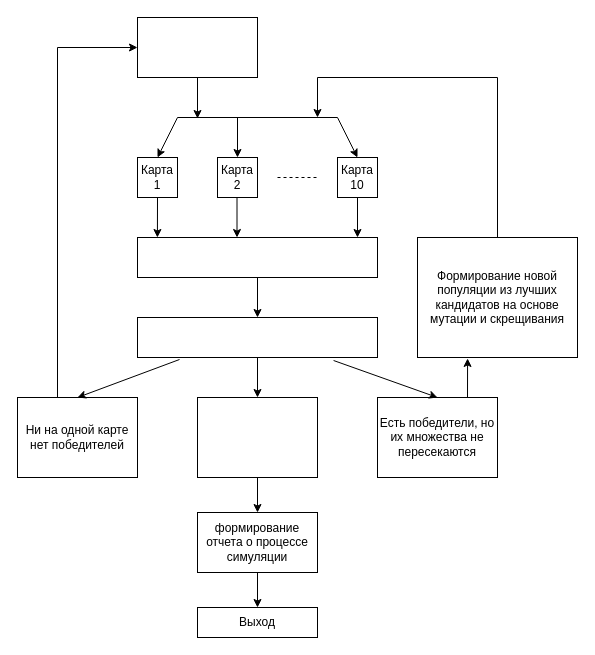
Some shapes in this 595 by 655 pixel diagram are drawn without their labels. Each missing label, with the box of its shape:
Есть объекты популяции, прошедшие все уровни: (196, 396, 318, 478)
Обработка результатов: (136, 316, 378, 358)
Формирование случайной популяции: (136, 16, 258, 78)
Формирование списка победителей: (136, 236, 378, 278)
